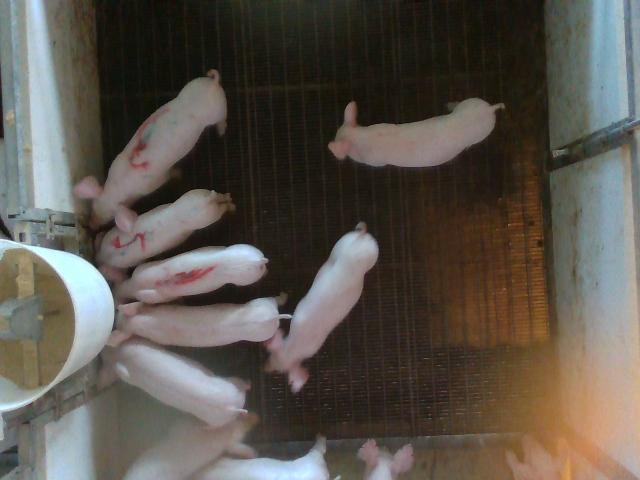pig-1: (99, 244, 268, 304)
pig-3: (75, 70, 226, 233)
pig-5: (96, 189, 233, 268)
